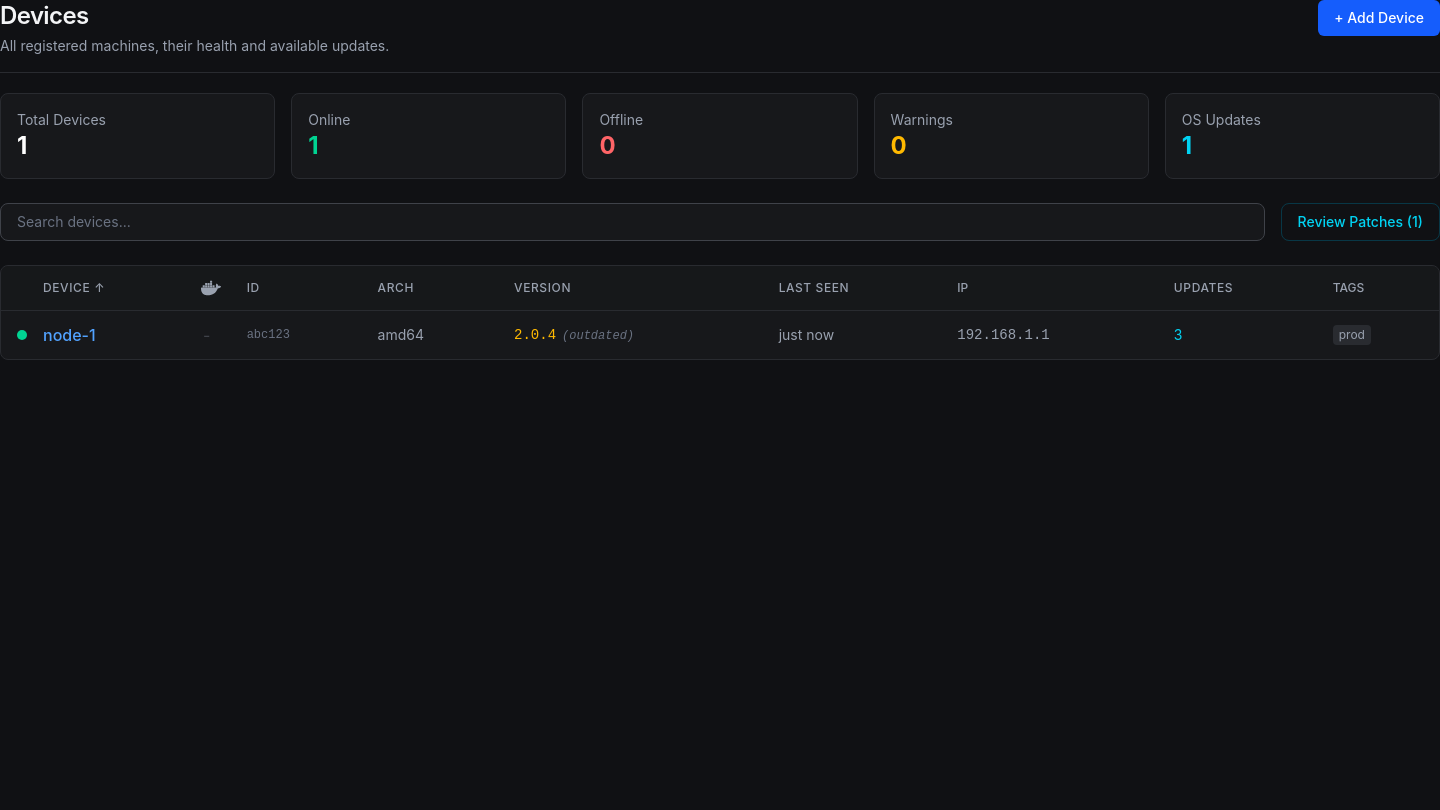
Test: [AC-021] Reboot-class surfaced in patch review › shows the reboot-class count for the device
Click the button "Review Patches (1)": x=1360, y=222 left=1281, top=203, right=1439, bottom=241
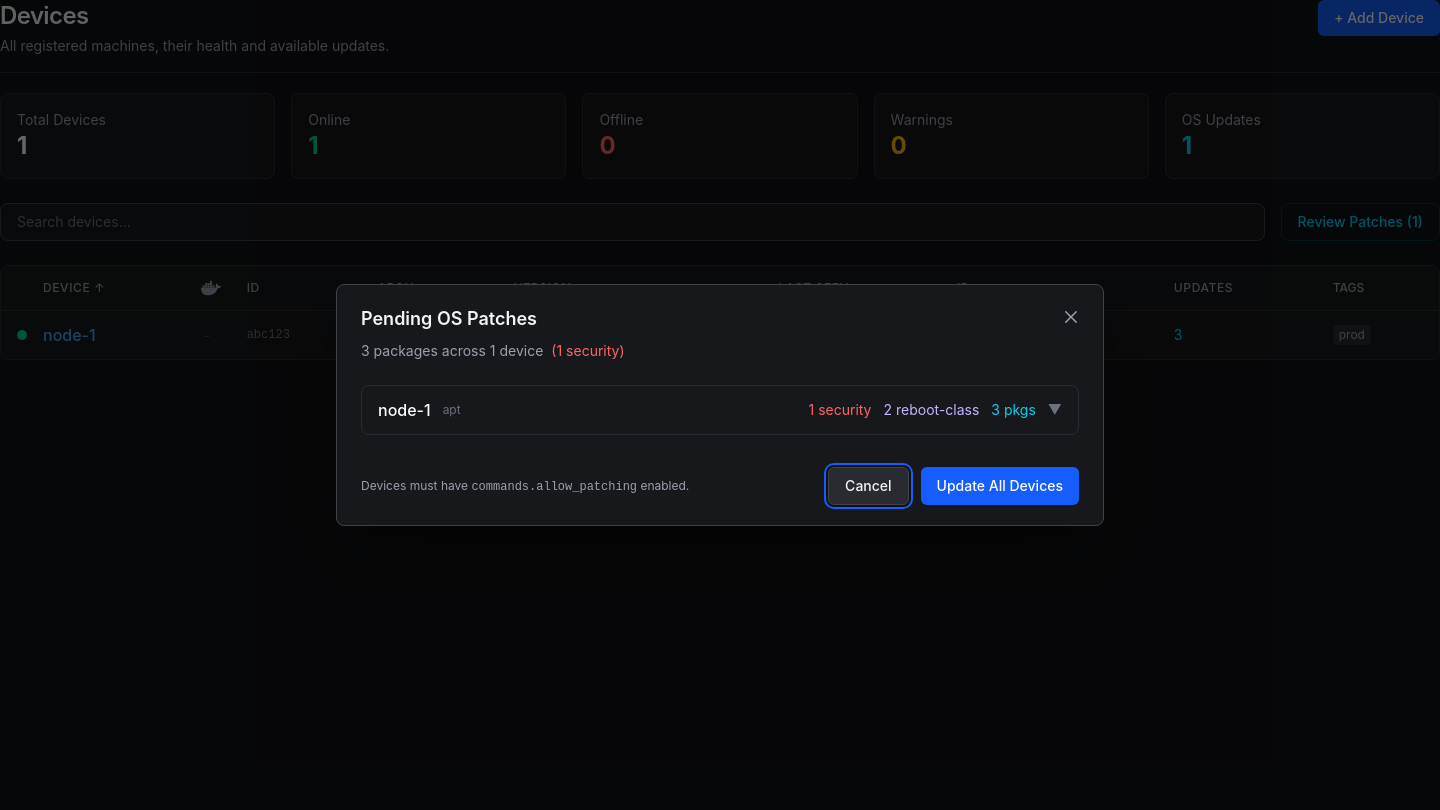
Expected: the text "2 reboot-class" is shown, left=884, top=400, right=979, bottom=420
